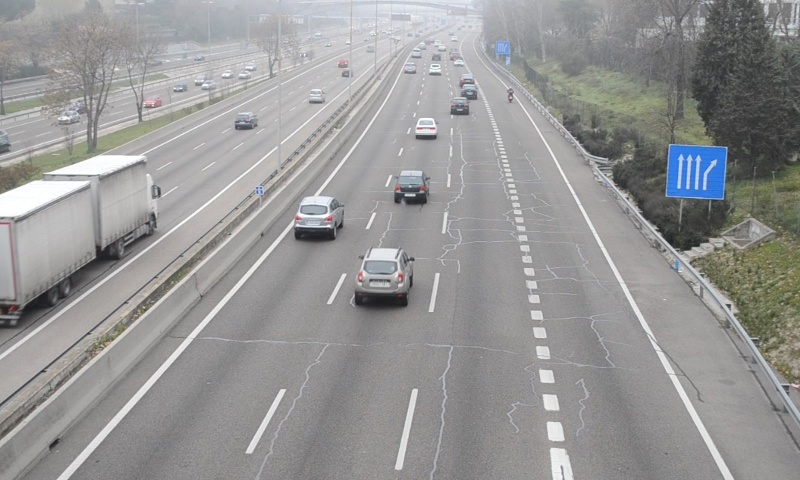car: (356, 248, 411, 295), (294, 196, 344, 232), (394, 170, 428, 200), (414, 116, 437, 136), (450, 96, 470, 116)
motorcycle: (506, 85, 515, 103)
